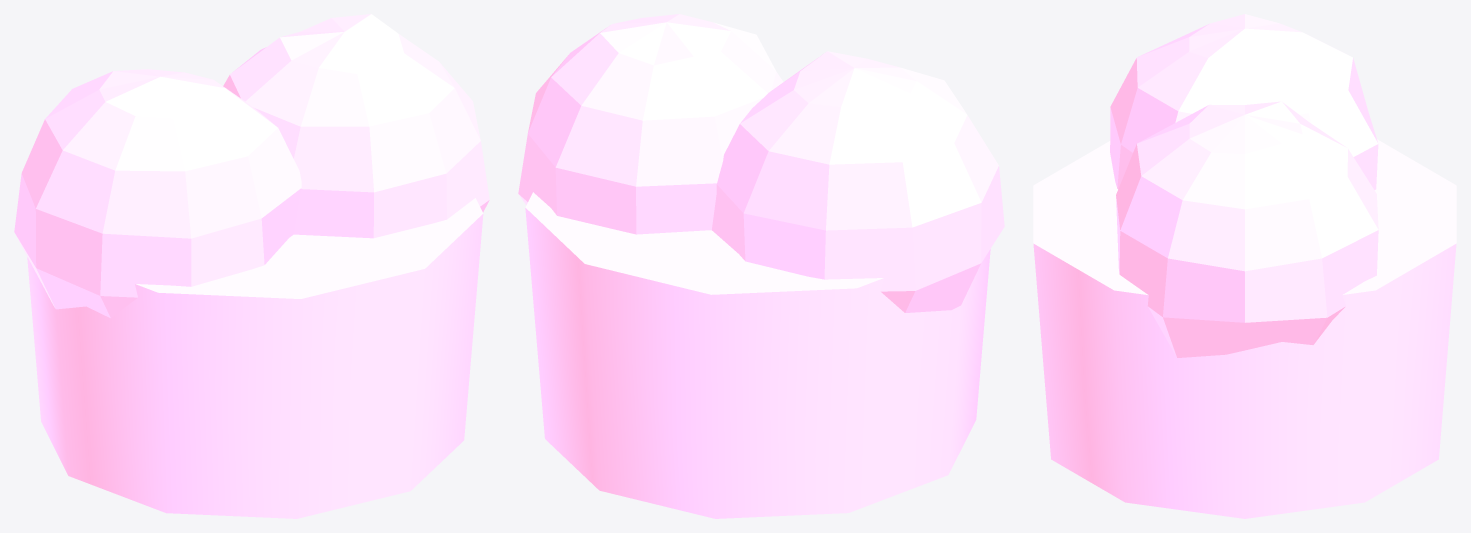
File: heart.glb
The picture shows the model from 3 angles, left to right: view 1: azimuth 30°, elevation 25°; view 2: azimuth 150°, elevation 25°; view 3: azimuth 270°, elevation 25°; orthographic projection. The views are drawn at different scales.
Parts seen in each view (by area): view 1: heart; view 2: heart; view 3: heart.
Part boxes in pixels (x1,y1,x2,y2): heart: (14,14,489,518); heart: (518,14,1004,518); heart: (1033,14,1456,518).
Size of the model in its own units: 0.5221 by 0.52 by 0.4565.
